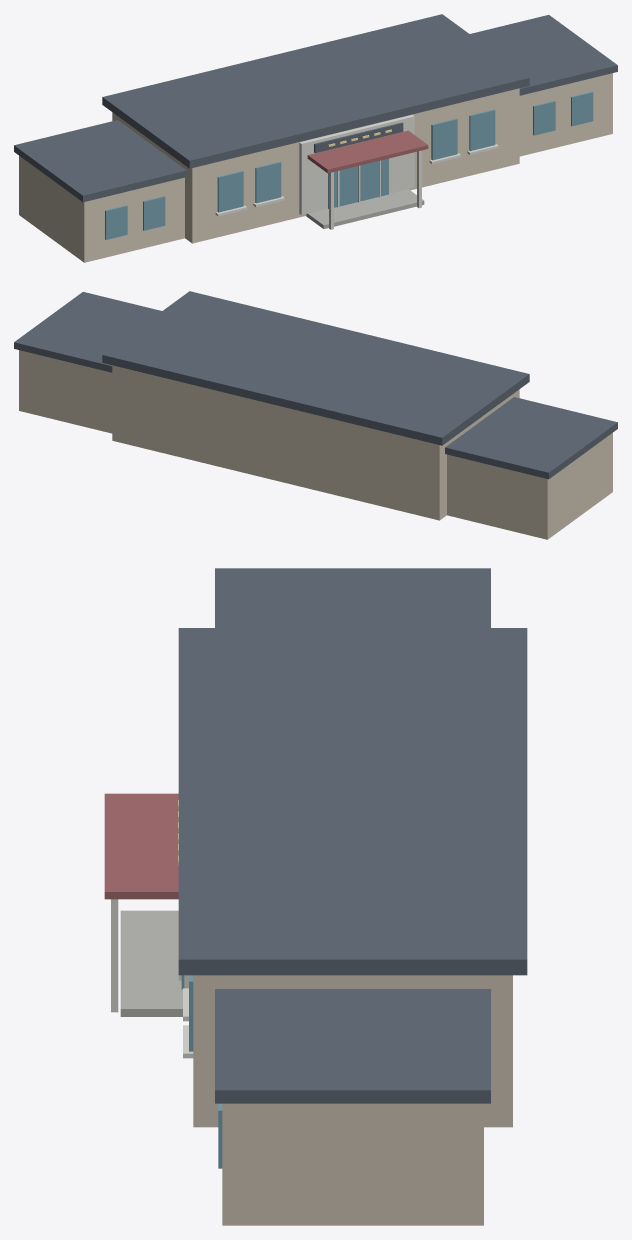
File: station.glb
3 renders of one model, top to bottom at view 1: azimuth 30°, elevation 25°; view 2: azimuth 150°, elevation 25°; view 3: azimuth 270°, elevation 25°, orthographic. The views are drawn at different scales.
Parts seen in each view (by area): view 1: Main roof, Station main hall, Left wing, Wing roof, Wing roof.001, Right wing, Entrance facade, Entrance canopy, Station steps, Entrance glass, Front window.002, Front window.003 (+7 smaller); view 2: Main roof, Station main hall, Left wing, Wing roof, Wing roof.001, Right wing; view 3: Main roof, Right wing, Wing roof.001, Wing roof, Station main hall, Entrance canopy, Station steps, Canopy column.001.
Part boxes in pixels (x1,y1,x2,y2): Main roof: (102, 14, 529, 168); Station main hall: (112, 88, 519, 243); Left wing: (19, 156, 184, 262); Wing roof: (14, 120, 186, 202); Wing roof.001: (470, 15, 617, 95); Right wing: (519, 73, 612, 156); Entrance facade: (299, 115, 414, 214); Entrance canopy: (307, 130, 428, 173); Station steps: (306, 189, 424, 228); Entrance glass: (328, 158, 388, 208); Front window.002: (431, 118, 457, 160); Front window.003: (469, 109, 495, 151); Main roof: (102, 291, 529, 445); Station main hall: (112, 365, 519, 520); Left wing: (447, 433, 612, 539); Wing roof: (445, 397, 617, 479); Wing roof.001: (14, 292, 161, 372); Right wing: (19, 350, 112, 433); Main roof: (178, 628, 527, 975); Right wing: (222, 1103, 483, 1225); Wing roof.001: (215, 989, 490, 1103); Wing roof: (215, 568, 490, 627); Station main hall: (193, 975, 512, 1127); Entrance canopy: (104, 793, 178, 899); Station steps: (120, 910, 182, 1016); Canopy column.001: (111, 899, 118, 1012).
Size of the model in its own units: 42.5 by 6.6 by 14.55.
